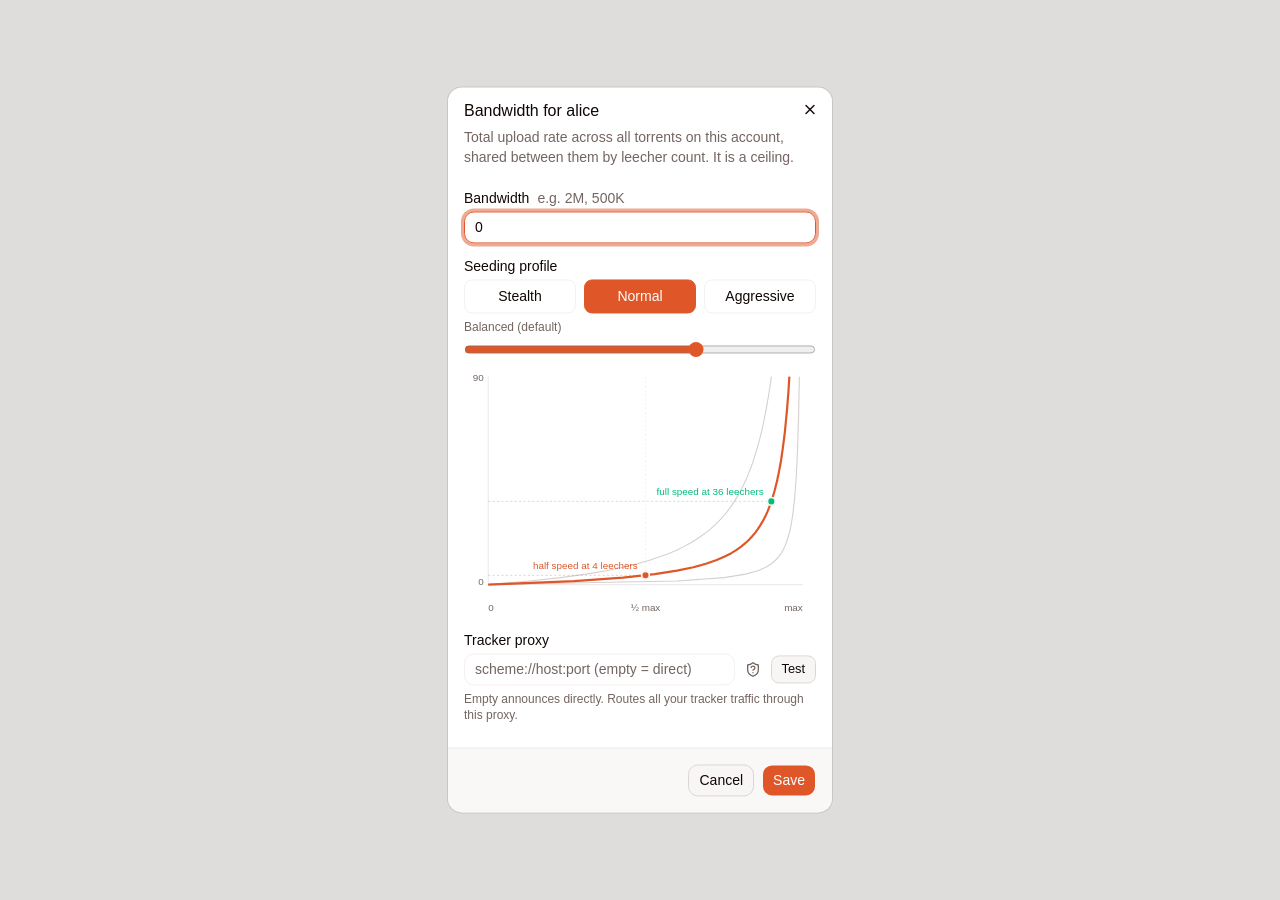
Test: BandwidthDialog seeding profile slider › dragging the slider to its left edge selects Stealth, not Aggressive
Set the slider named "Seeding aggressiveness" to "1" at (472, 350), box [464,342,816,358]
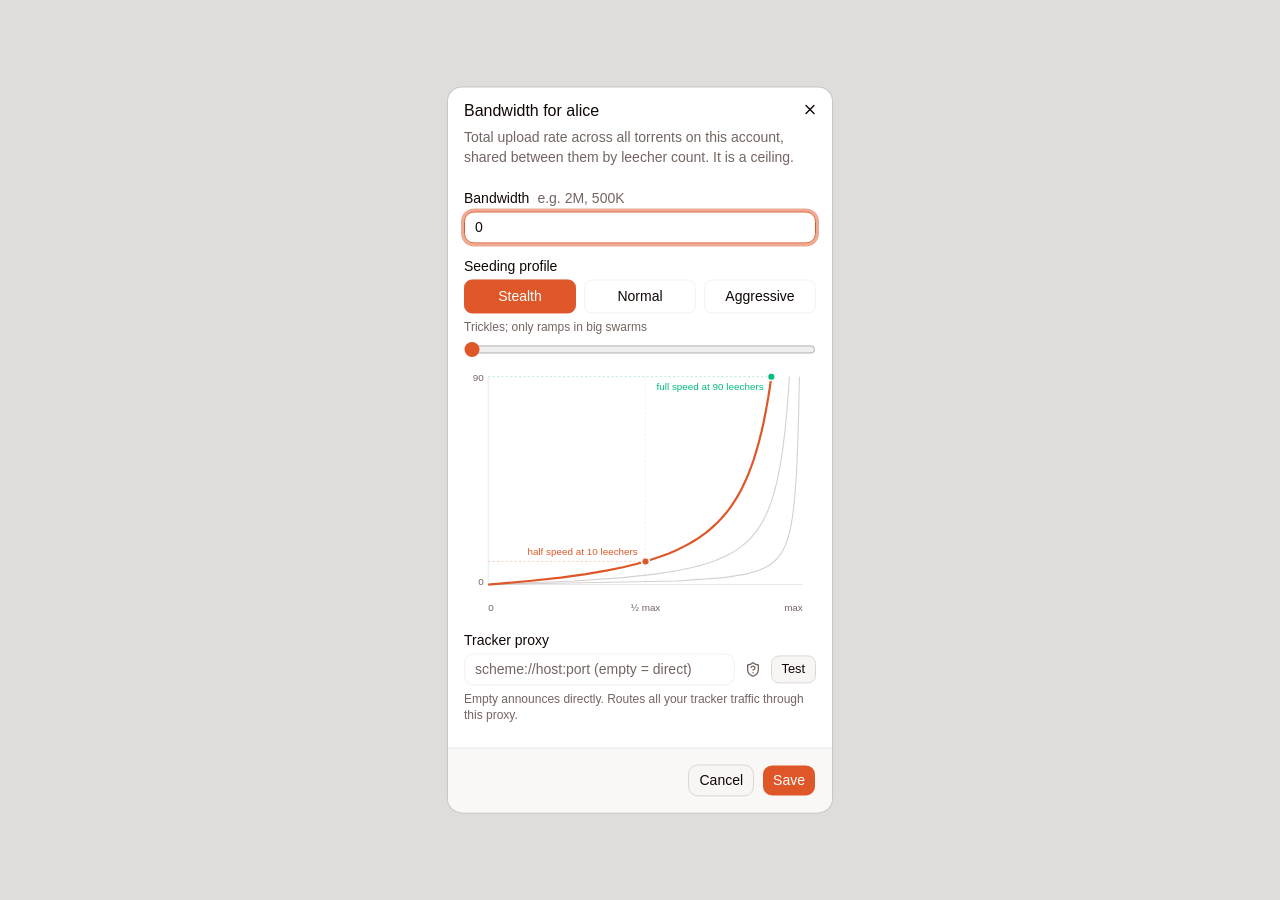
expect the text "Trickles; only ramps in big swarms" is shown: met, box [464,320,647,334]
